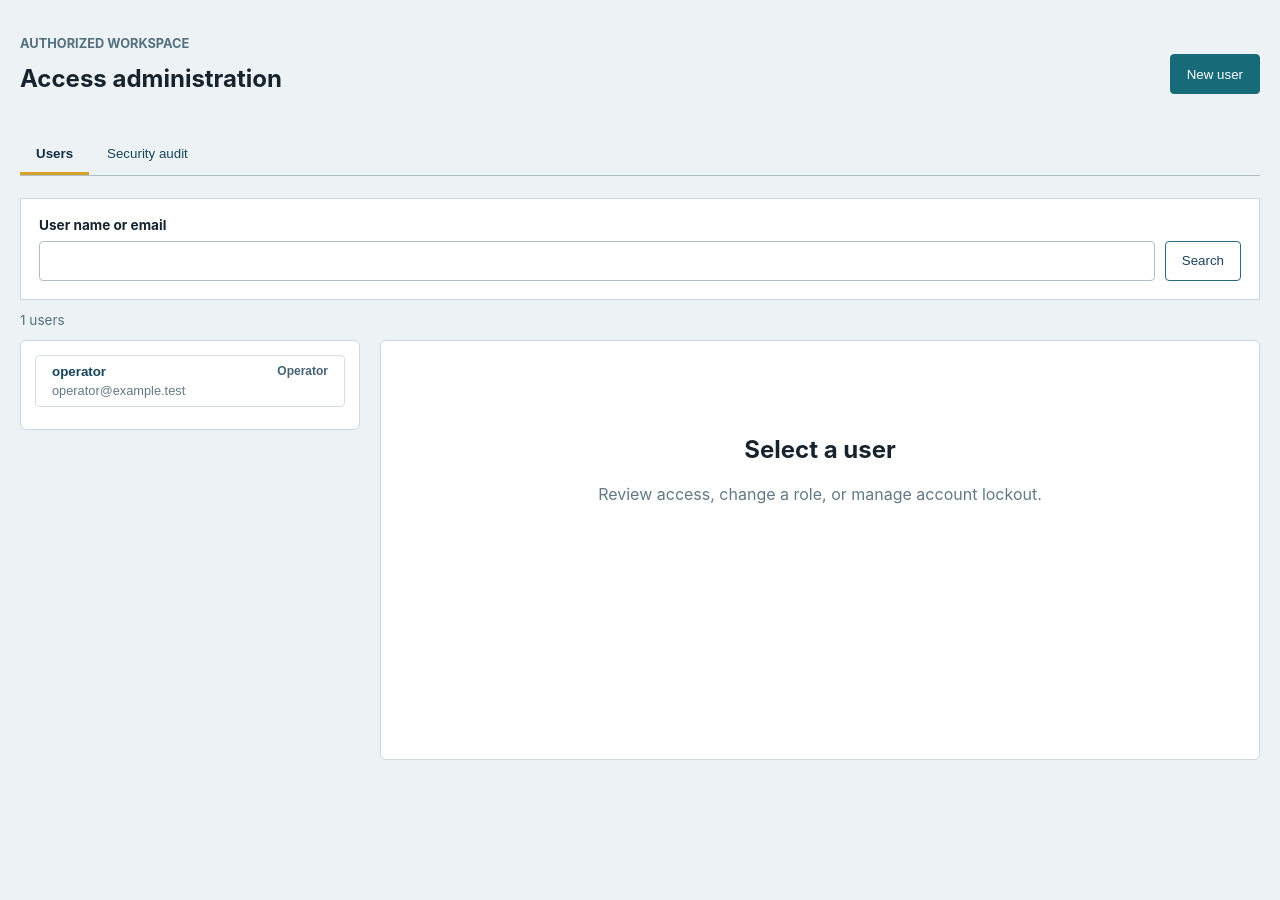
Test: AccessAdministrationComponent › loads persistent security events from the audit tab @surface:administration @role:Administrator
Click the button "Security audit". click: {"x": 148, "y": 155}
box: x1=91 y1=135 x2=204 y2=175
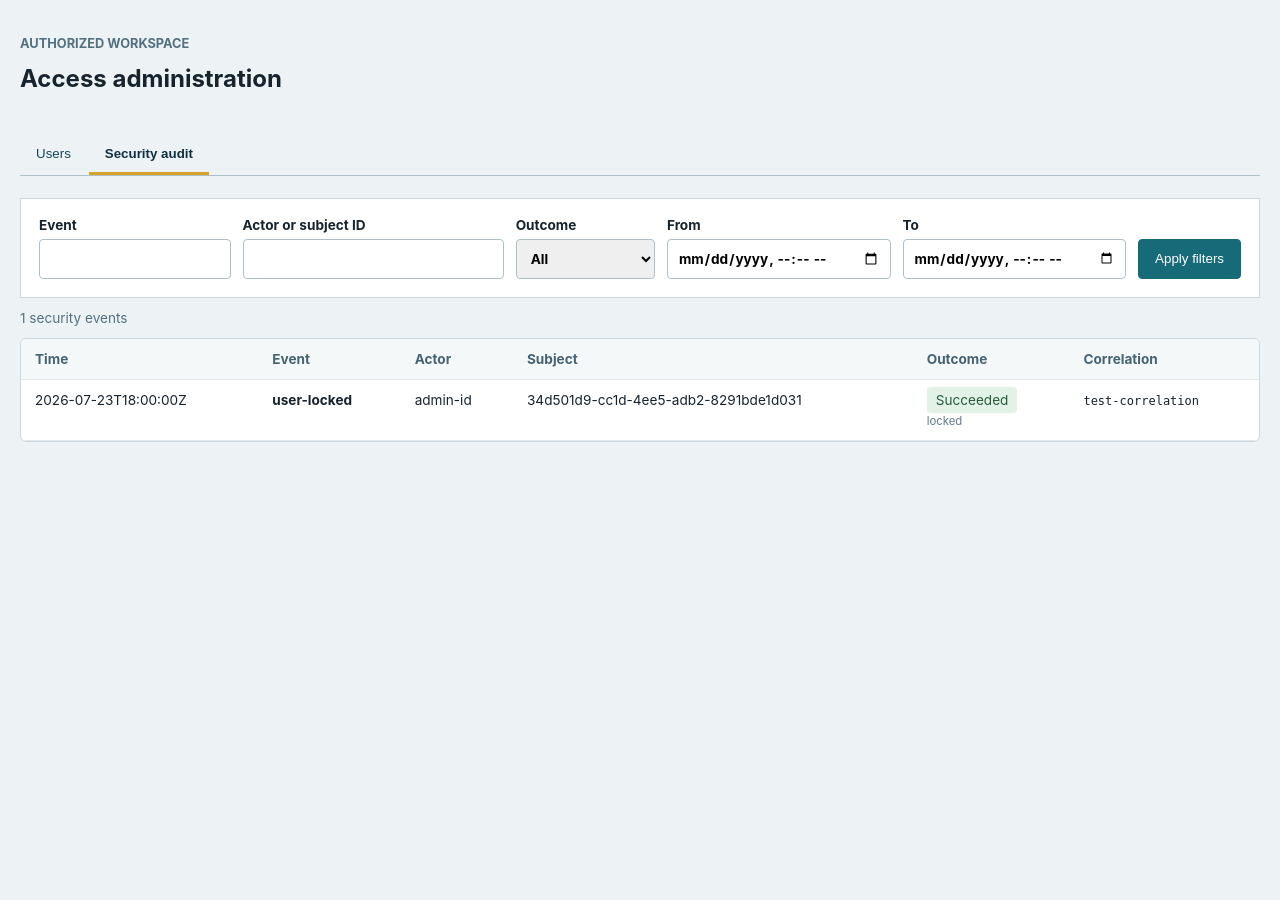
Now the text "user-locked" is shown, box x1=272 y1=392 x2=352 y2=408
Now the text "Succeeded" is shown, box x1=927 y1=387 x2=1017 y2=413
